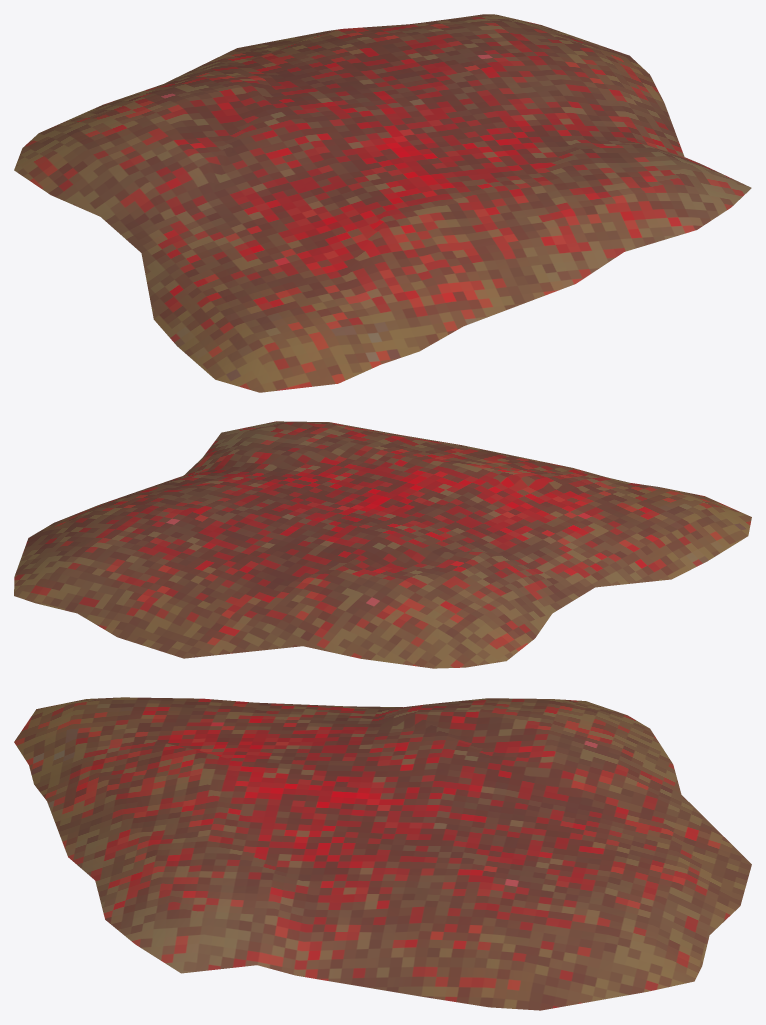
Rendered from Vomito.fbx.
3 views of the same model, one above another, from view 1: azimuth 30°, elevation 25°; view 2: azimuth 150°, elevation 25°; view 3: azimuth 270°, elevation 25° (orthographic). The views are drawn at different scales.
Parts seen in each view (by area): view 1: Pa hacer weco; view 2: Pa hacer weco; view 3: Pa hacer weco.
Boxes of the visible parts, <box> form: Pa hacer weco: <box>14,14,751,392</box>; Pa hacer weco: <box>14,421,751,668</box>; Pa hacer weco: <box>14,697,751,1010</box>.
Bounding box in the file's own units: 240 × 24.24 × 237.
1 material, 1 textured.
